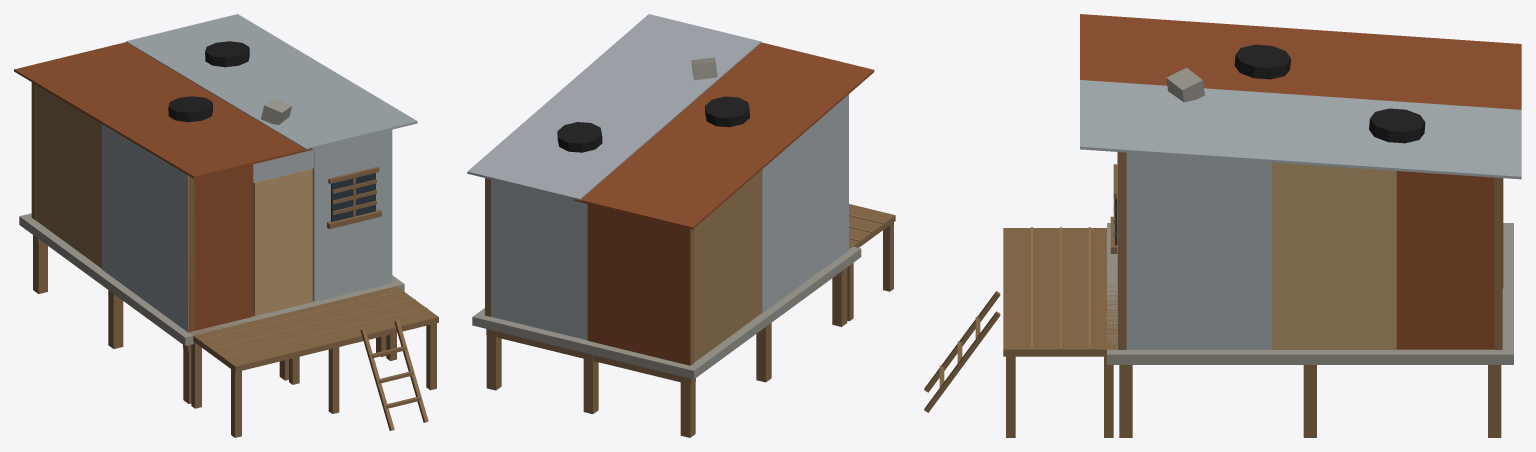
Rendered from BAY_I_TinShack_R.glb.
The picture shows the model from 3 angles, left to right: view 1: azimuth 30°, elevation 25°; view 2: azimuth 150°, elevation 25°; view 3: azimuth 270°, elevation 25°; orthographic projection. The views are drawn at different scales.
Parts seen in each view (by area): view 1: BAY_I_TinShack_R; view 2: BAY_I_TinShack_R; view 3: BAY_I_TinShack_R.
Part boxes in pixels (bbox=[...]): BAY_I_TinShack_R: bbox=[14, 14, 438, 437]; BAY_I_TinShack_R: bbox=[467, 14, 895, 437]; BAY_I_TinShack_R: bbox=[924, 14, 1521, 437].
Bounding box in the file's own units: 3.3 × 3.58 × 6.22.
Materials: 1 (1 with a texture image).
